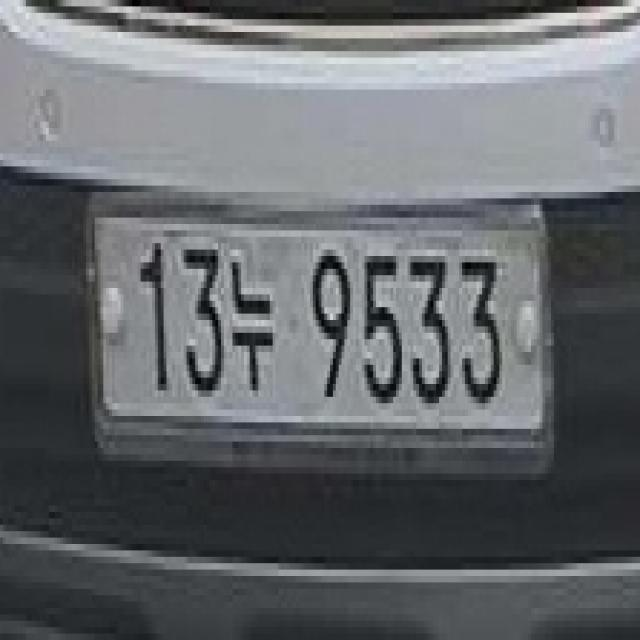1: (136, 236, 175, 404)
3: (460, 240, 510, 414), (410, 240, 452, 410), (183, 236, 226, 400)
5: (362, 242, 406, 410)
9: (310, 236, 354, 414)
license_plate: (79, 210, 551, 434)
nu: (230, 242, 278, 404)
